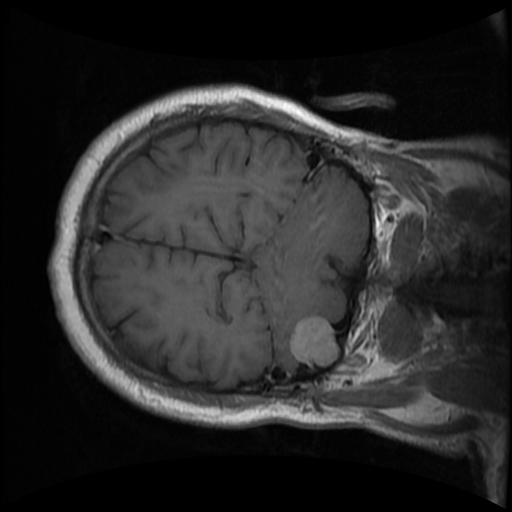meningioma: (288, 315, 340, 368)
